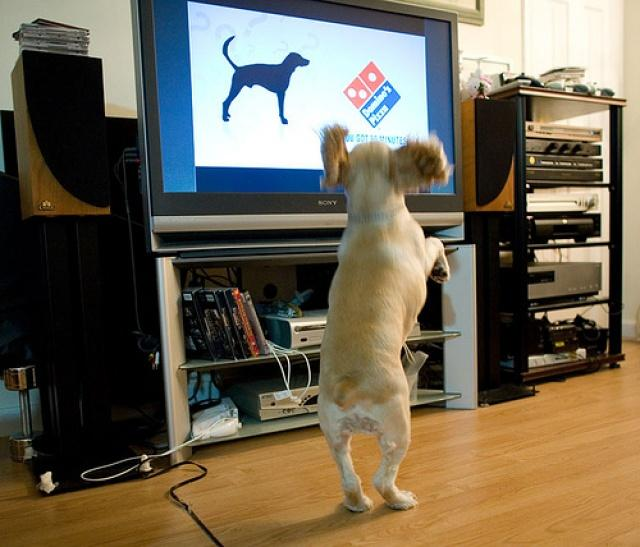AIO PC-Monitor-TV: (129, 0, 464, 232)
Rak: (518, 87, 622, 378)
